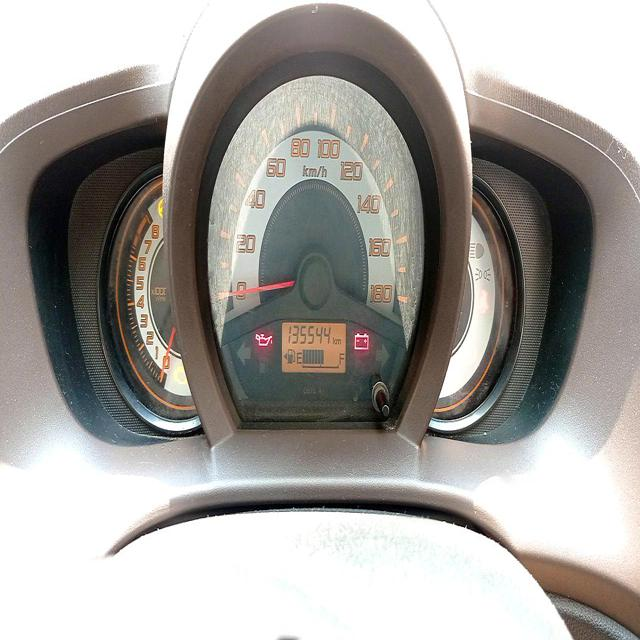odometer: (286, 321, 333, 347)
